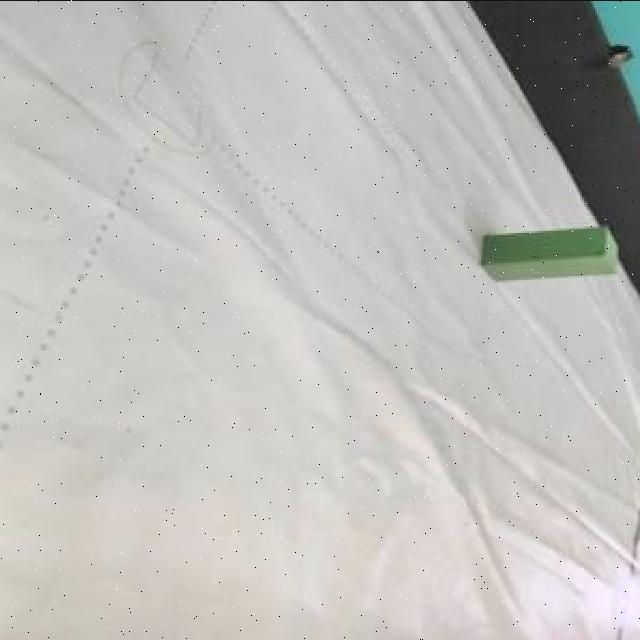greenbox: (480, 222, 622, 286)
